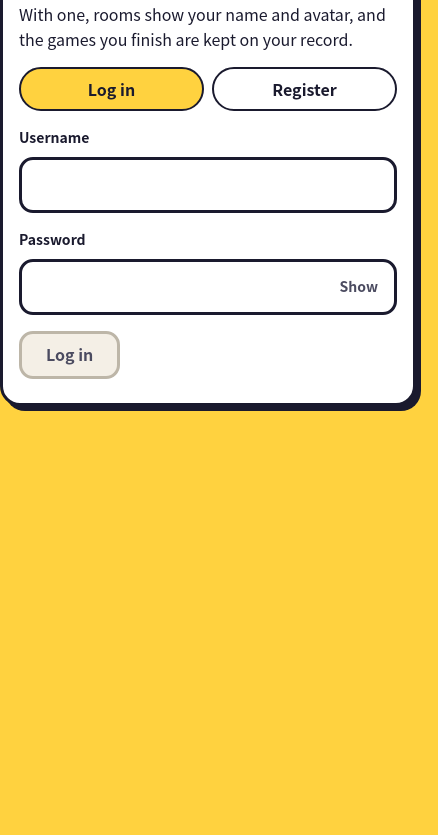
Scenario: signing in › tells whoever registers what becomes of the record of their games, and registers nobody who has not agreed
The width and height of the screenshot is (438, 835).
Expected: the text "your public page" is not shown
Click the button with class "tab" showing "Register" at (304, 89), box [212,67,397,111]
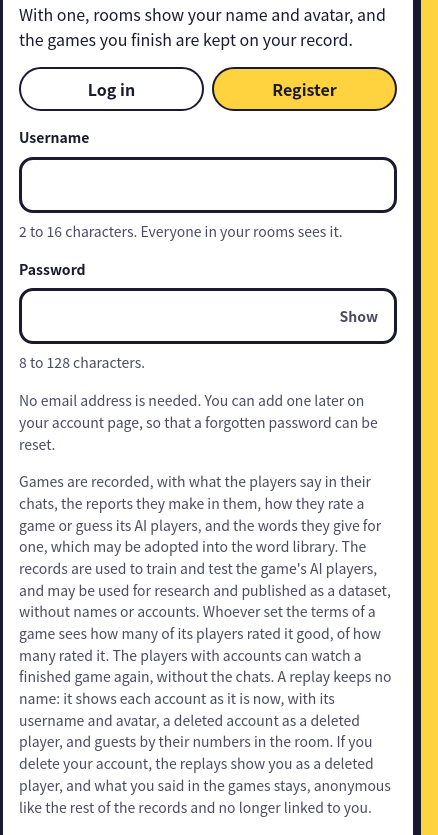
Expected: the text "used to train and test the game's AI players" is shown, [19,471,392,816]
Expected: the text "sees how many of its players rated it good, of how many rated it" is shown, [19,471,392,816]
Type "Ann" into the field labelled "Username" at (208, 185), box [22,160,394,210]
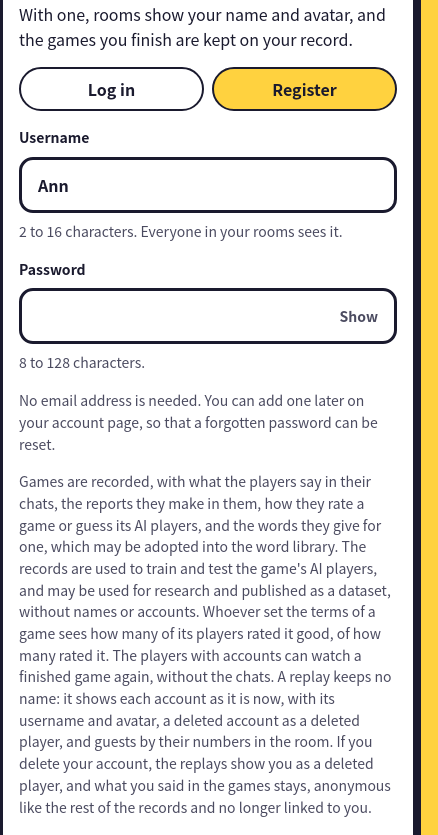
Type "correct horse" into the password field labelled "Password" at (173, 316), box [22,292,324,342]
(page scrolled)
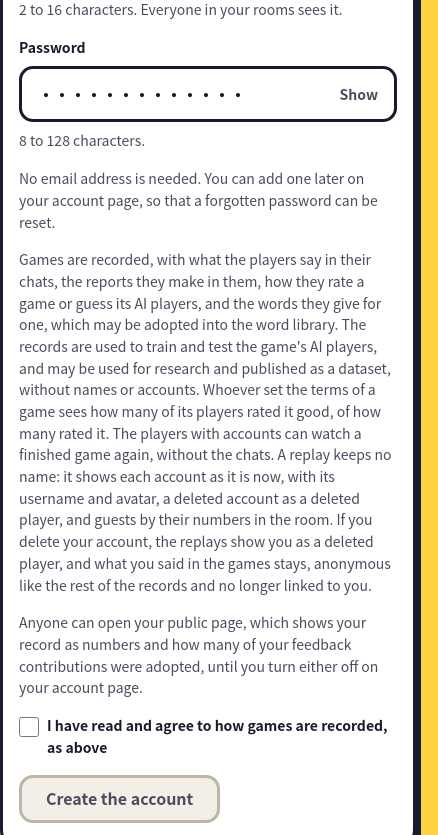
Expected: the submit button is disabled, [19,775,220,823]
Click the checkbox labelled "I have read and agree to how games are recorded, as above" at (29, 727), box [19,717,39,737]
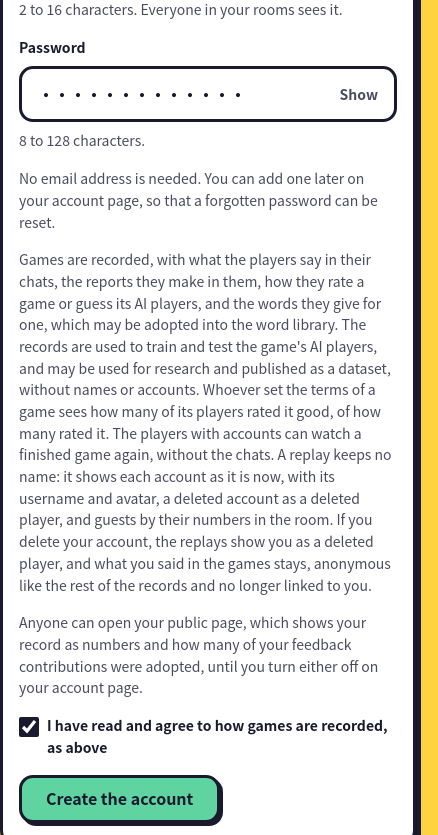
Expected: the submit button is enabled, [19,775,220,823]
